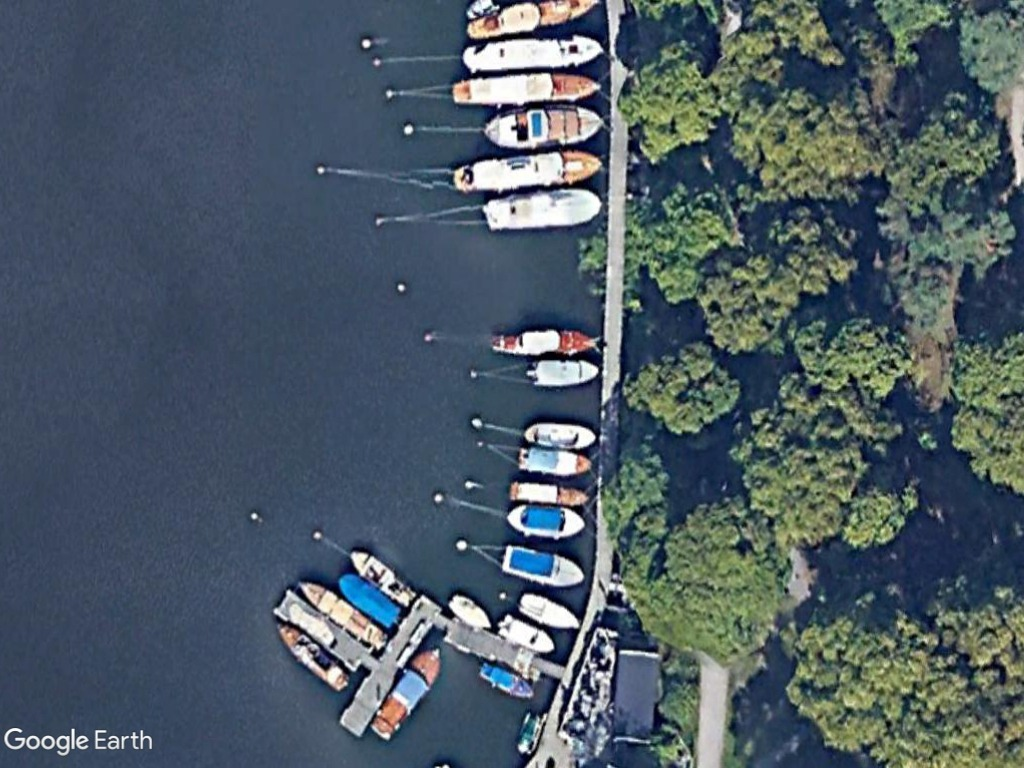boat: (361, 640, 446, 749), (288, 574, 395, 656), (454, 24, 608, 80), (474, 98, 610, 156), (476, 184, 612, 239), (441, 150, 609, 193), (440, 65, 606, 108), (265, 617, 355, 696), (339, 535, 421, 610), (490, 537, 590, 591), (481, 320, 602, 361), (499, 498, 592, 547), (510, 439, 598, 481), (513, 586, 586, 633), (500, 475, 598, 510), (493, 608, 559, 659), (517, 416, 602, 454), (523, 355, 608, 391), (471, 656, 536, 699), (443, 586, 497, 637)
